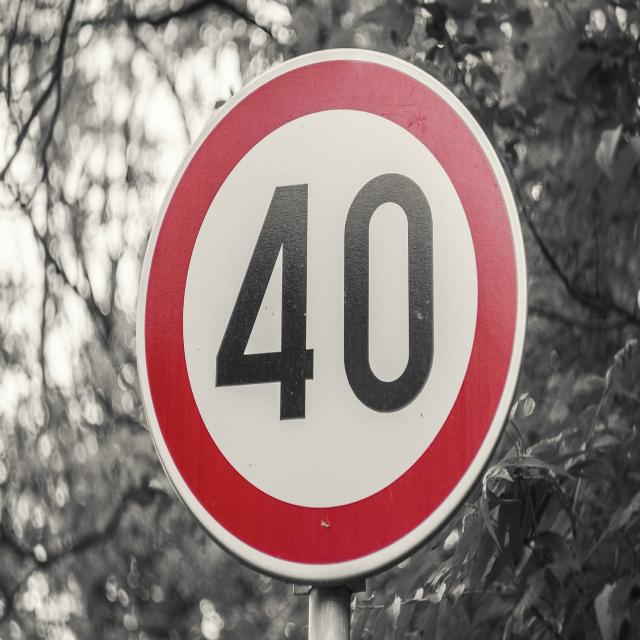speed limit 40: (128, 41, 538, 594)
